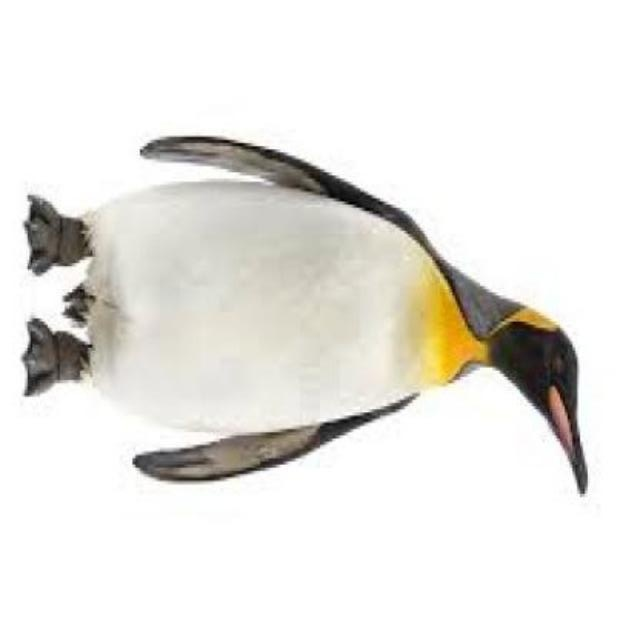penguin: (19, 134, 589, 500)
